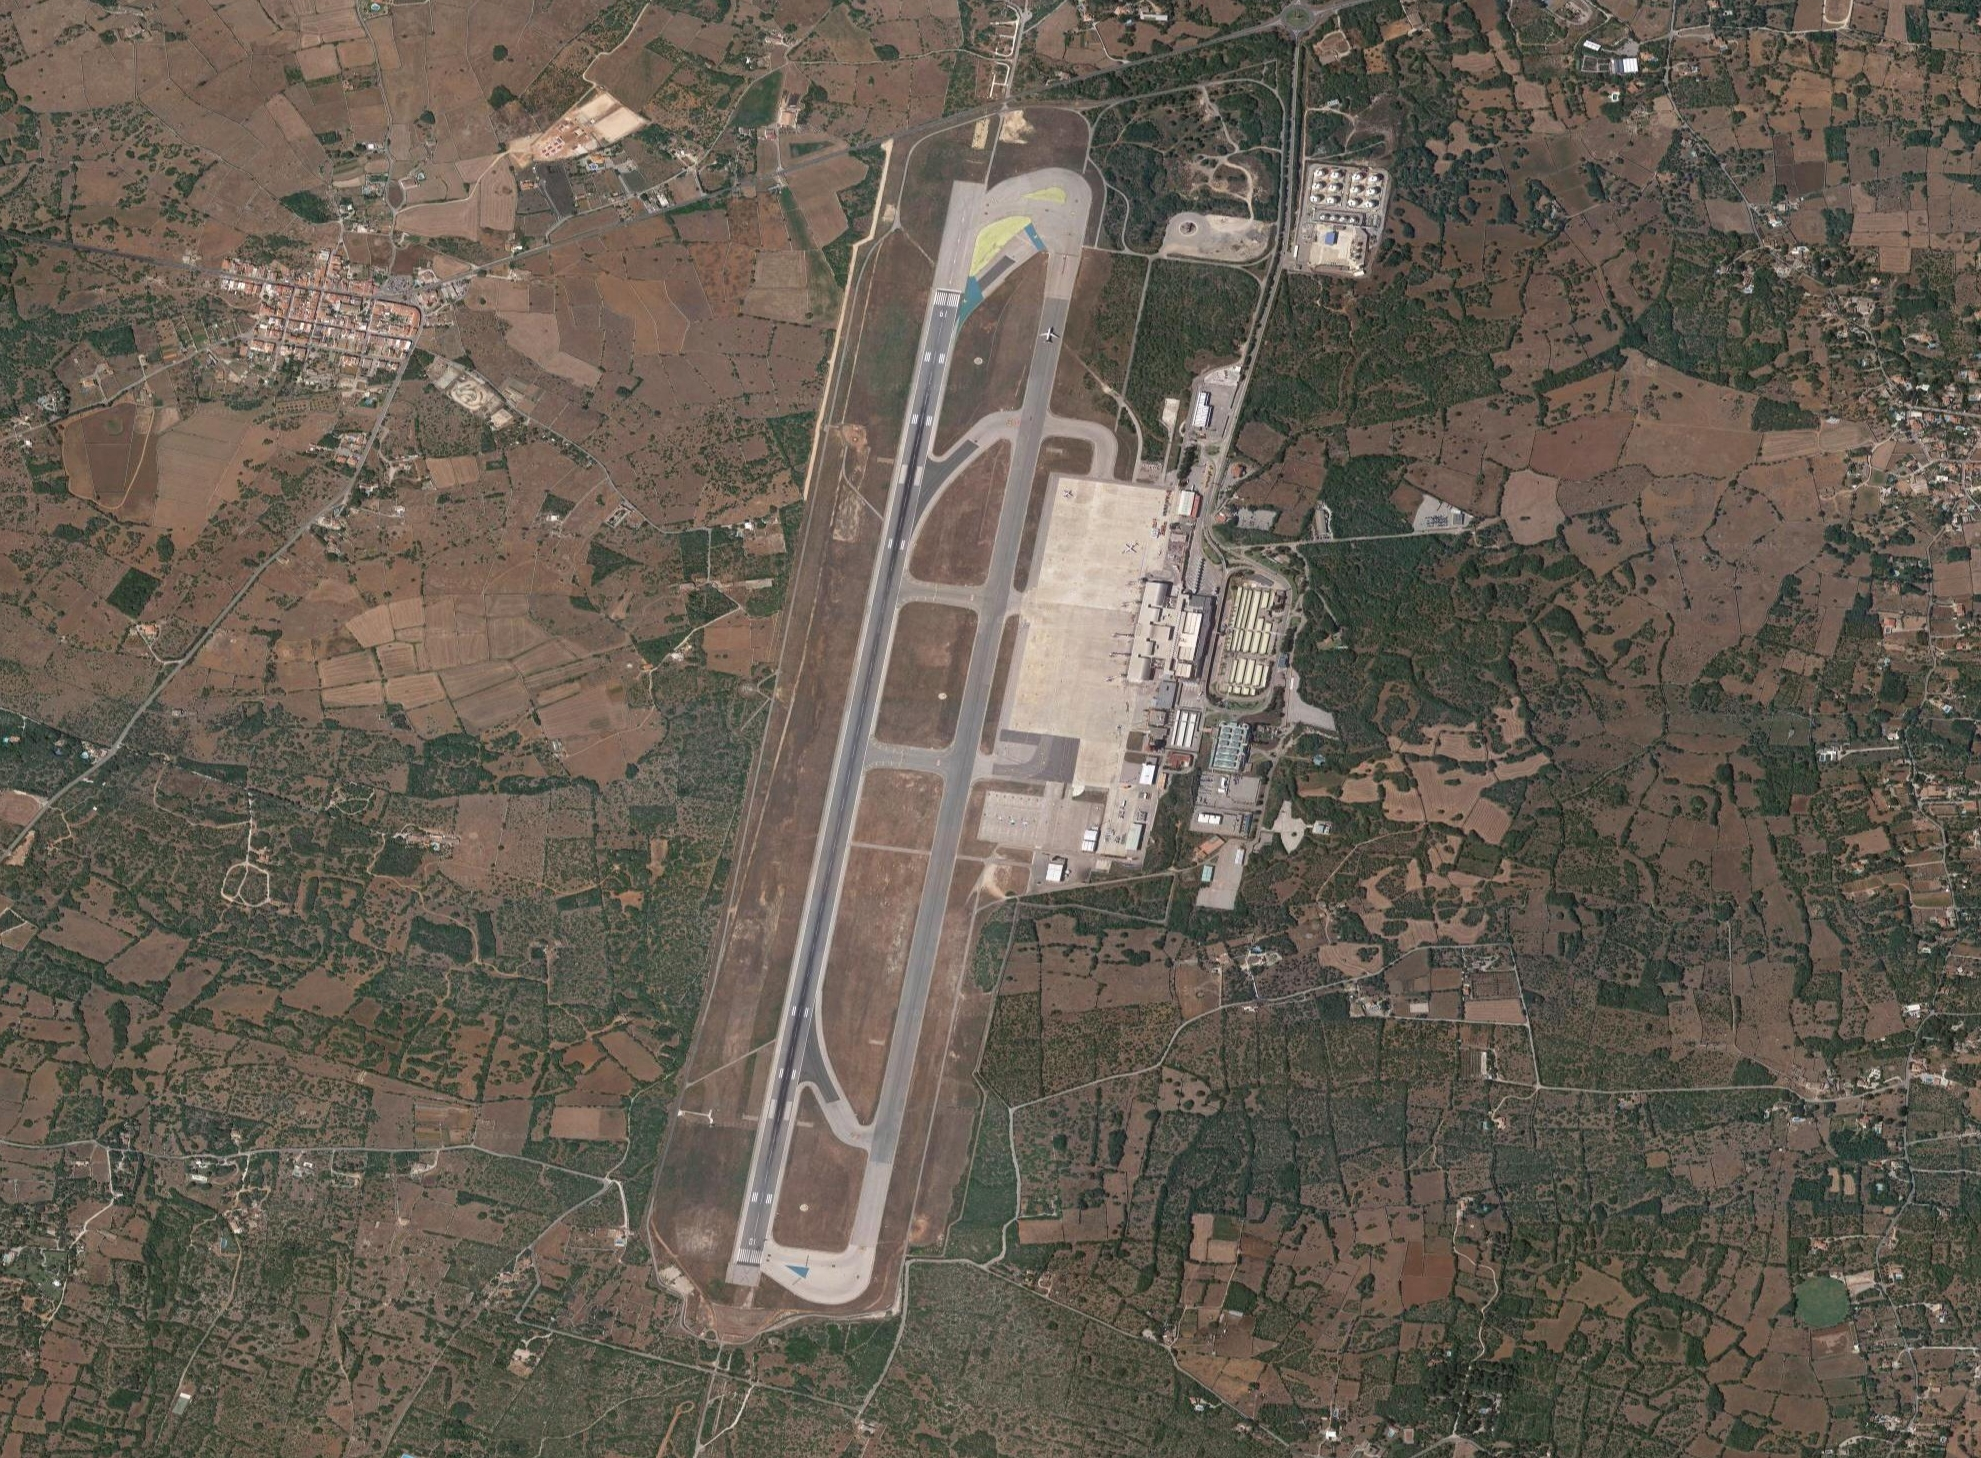airport: (720, 158, 1217, 1310)
